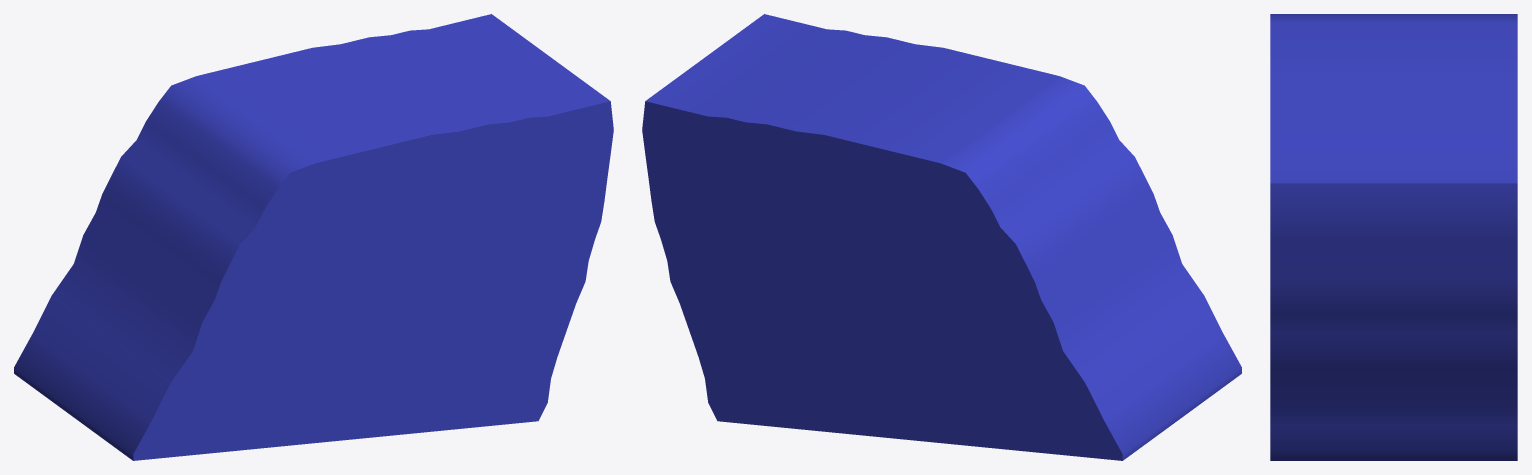
File: coal4.fbx
3 views of the same model, side by side, from view 1: azimuth 30°, elevation 25°; view 2: azimuth 150°, elevation 25°; view 3: azimuth 270°, elevation 25° (orthographic). The views are drawn at different scales.
Visible parts, largest first — view 1: root; view 2: root; view 3: root.
Boxes of the visible parts, <box> form: root: <box>14,14,613,460</box>; root: <box>642,14,1241,460</box>; root: <box>1270,14,1517,460</box>.
Bounding box in the file's own units: 0.1175 × 0.073 × 0.0505.
